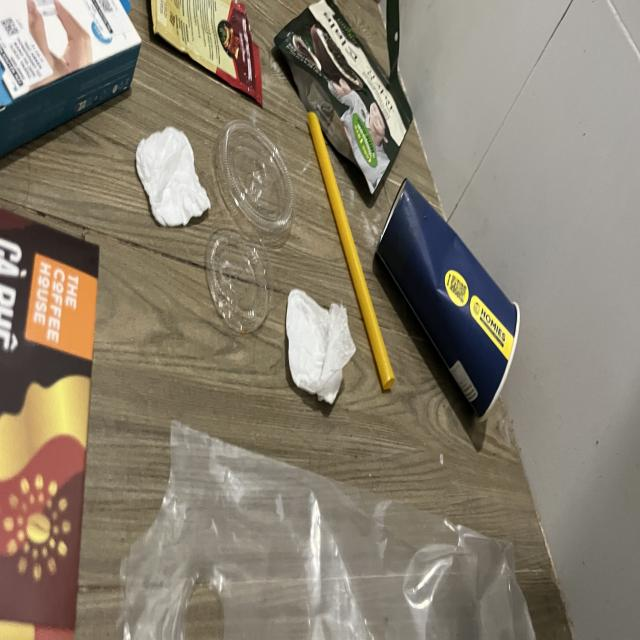bag: (120, 419, 535, 640)
cardboard box: (0, 199, 99, 640), (0, 0, 142, 142)
drinking straw: (308, 112, 394, 389)
lid: (217, 122, 294, 248), (207, 226, 273, 336)
napkin: (284, 287, 356, 408), (135, 127, 212, 231)
packet: (144, 0, 262, 111)
plastic glass: (377, 172, 520, 414)
snack package: (278, 0, 413, 205)
